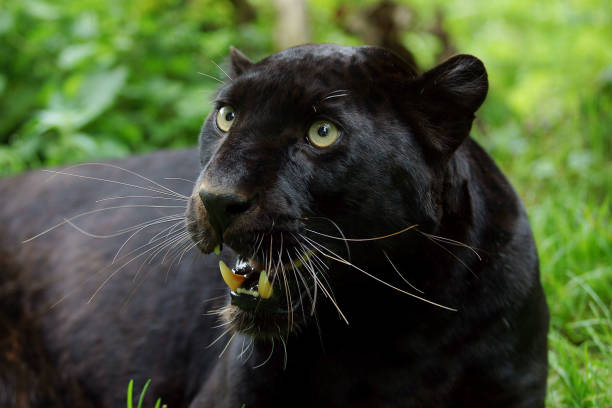panther: (176, 33, 492, 361)
